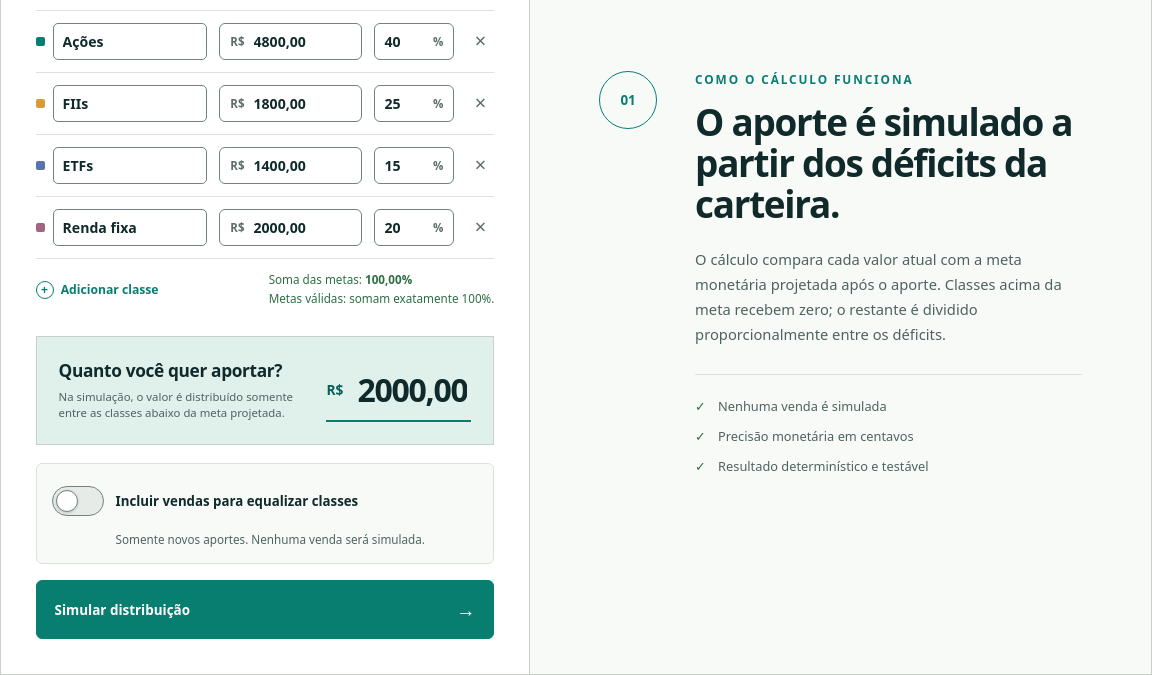
it: ContributionSimulator › cancels a pending simulation without displaying an error or late result
This screenshot has width=1152, height=675.
(page scrolled)
Click the button "Simular distribuição →": {"x": 122, "y": 610} [36,580,494,639]
(page scrolled)
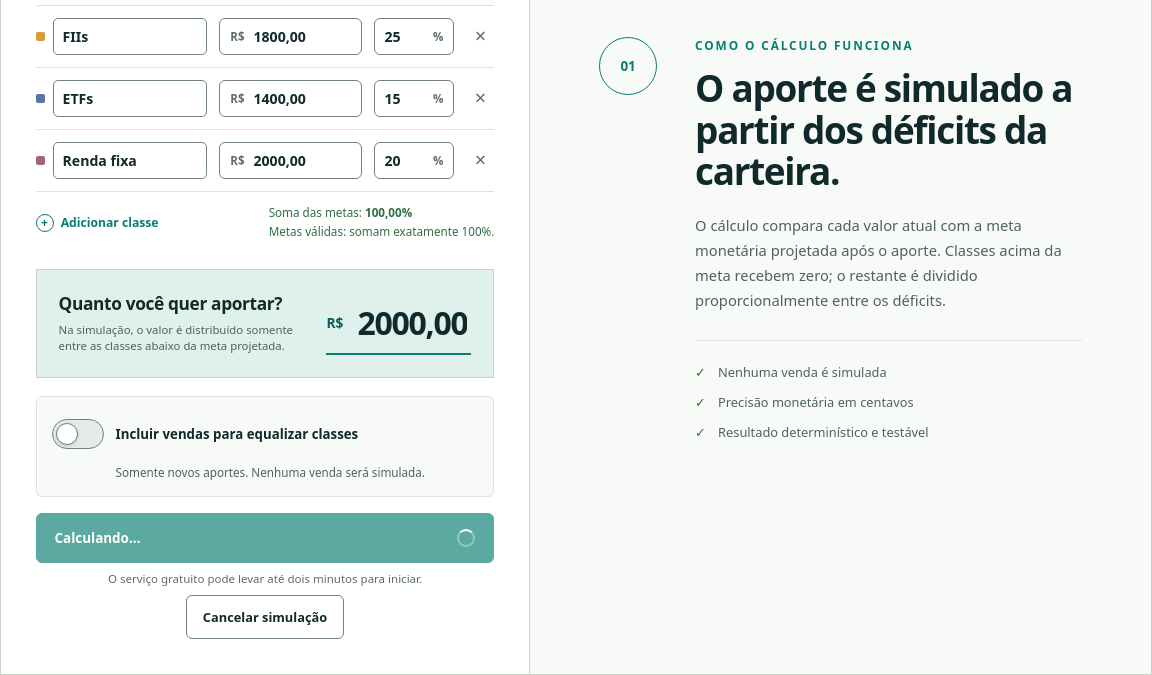
Expected: the text "O serviço gratuito pode levar até dois minutos para iniciar." is shown, [108,571,422,586]
Click the button "Cancelar simulação": {"x": 265, "y": 617} [186,595,344,639]
(page scrolled)
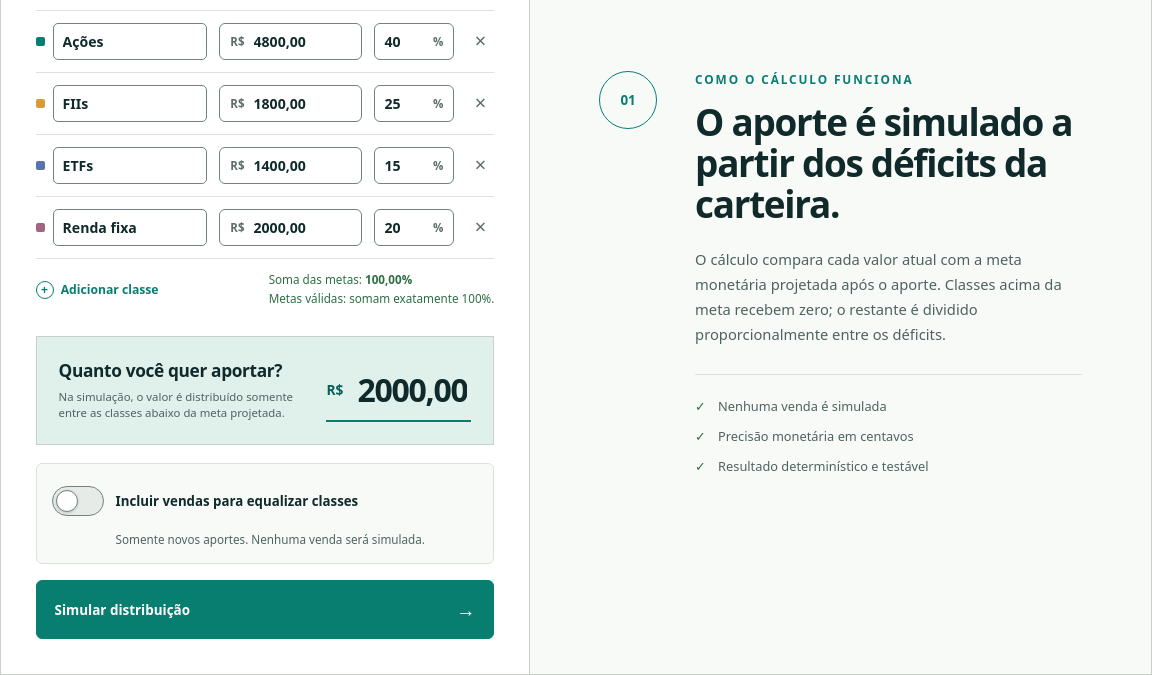
Expected: the button "Simular distribuição →" is enabled, [36,580,494,639]
